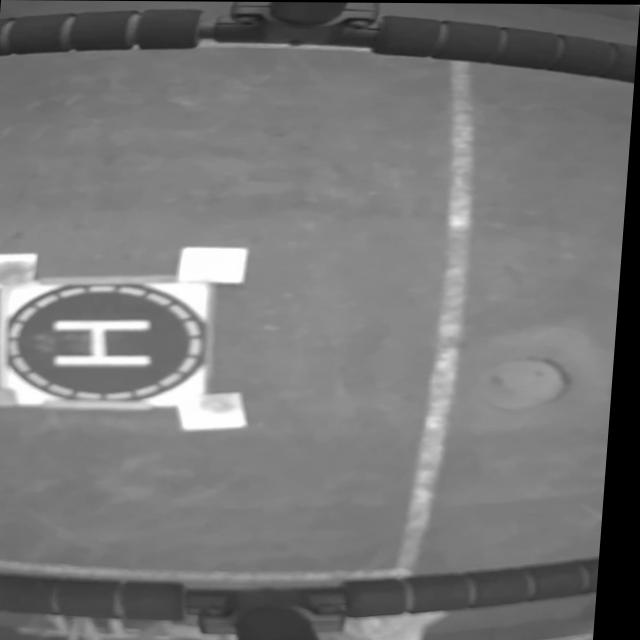Helipad: (57, 319, 159, 365)
